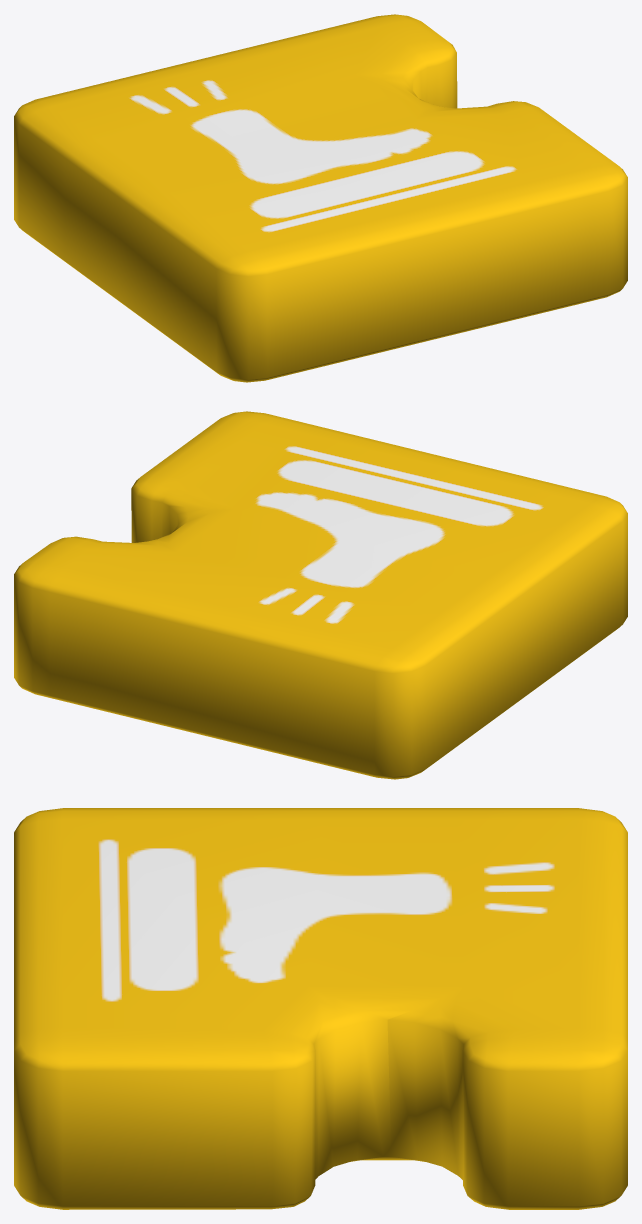
Rendered from bloqueBotonPulsado.fbx.
3 views of the same model, one above another, from view 1: azimuth 30°, elevation 25°; view 2: azimuth 150°, elevation 25°; view 3: azimuth 270°, elevation 25° (orthographic). The views are drawn at different scales.
Visible parts, largest first — view 1: BloqueBotonPulsado; view 2: BloqueBotonPulsado; view 3: BloqueBotonPulsado.
Boxes of the visible parts, bbox=[...] form: BloqueBotonPulsado: bbox=[14, 14, 627, 382]; BloqueBotonPulsado: bbox=[14, 411, 627, 779]; BloqueBotonPulsado: bbox=[14, 808, 627, 1209].
Size of the model in its own units: 200 by 57.69 by 200.
